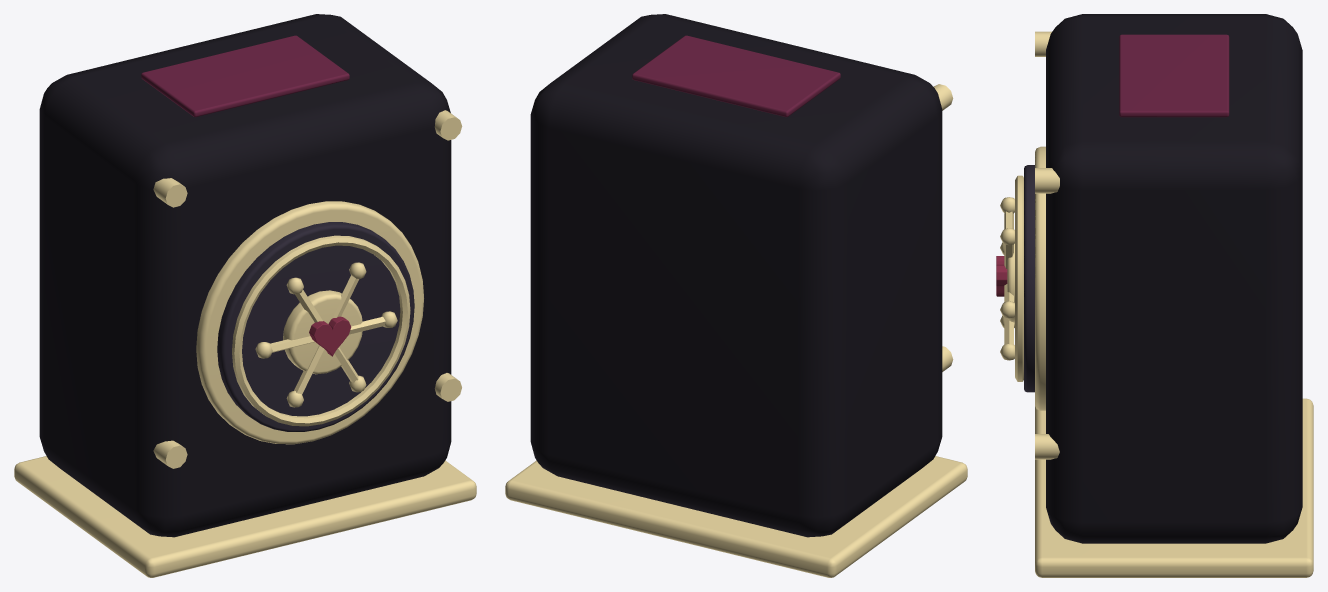
Rendered from safe_heart_vault.glb.
3 renders of one model, left to right at view 1: azimuth 30°, elevation 25°; view 2: azimuth 150°, elevation 25°; view 3: azimuth 270°, elevation 25°, orthographic.
Visible parts, largest first — view 1: safe_heart_vault; view 2: safe_heart_vault; view 3: safe_heart_vault.
Part boxes in pixels (x1=…): safe_heart_vault: x1=14, y1=14, x2=476, y2=577; safe_heart_vault: x1=505, y1=14, x2=967, y2=577; safe_heart_vault: x1=996, y1=14, x2=1313, y2=577.
Bounding box in the file's own units: 1.06 × 1.28 × 0.865.
